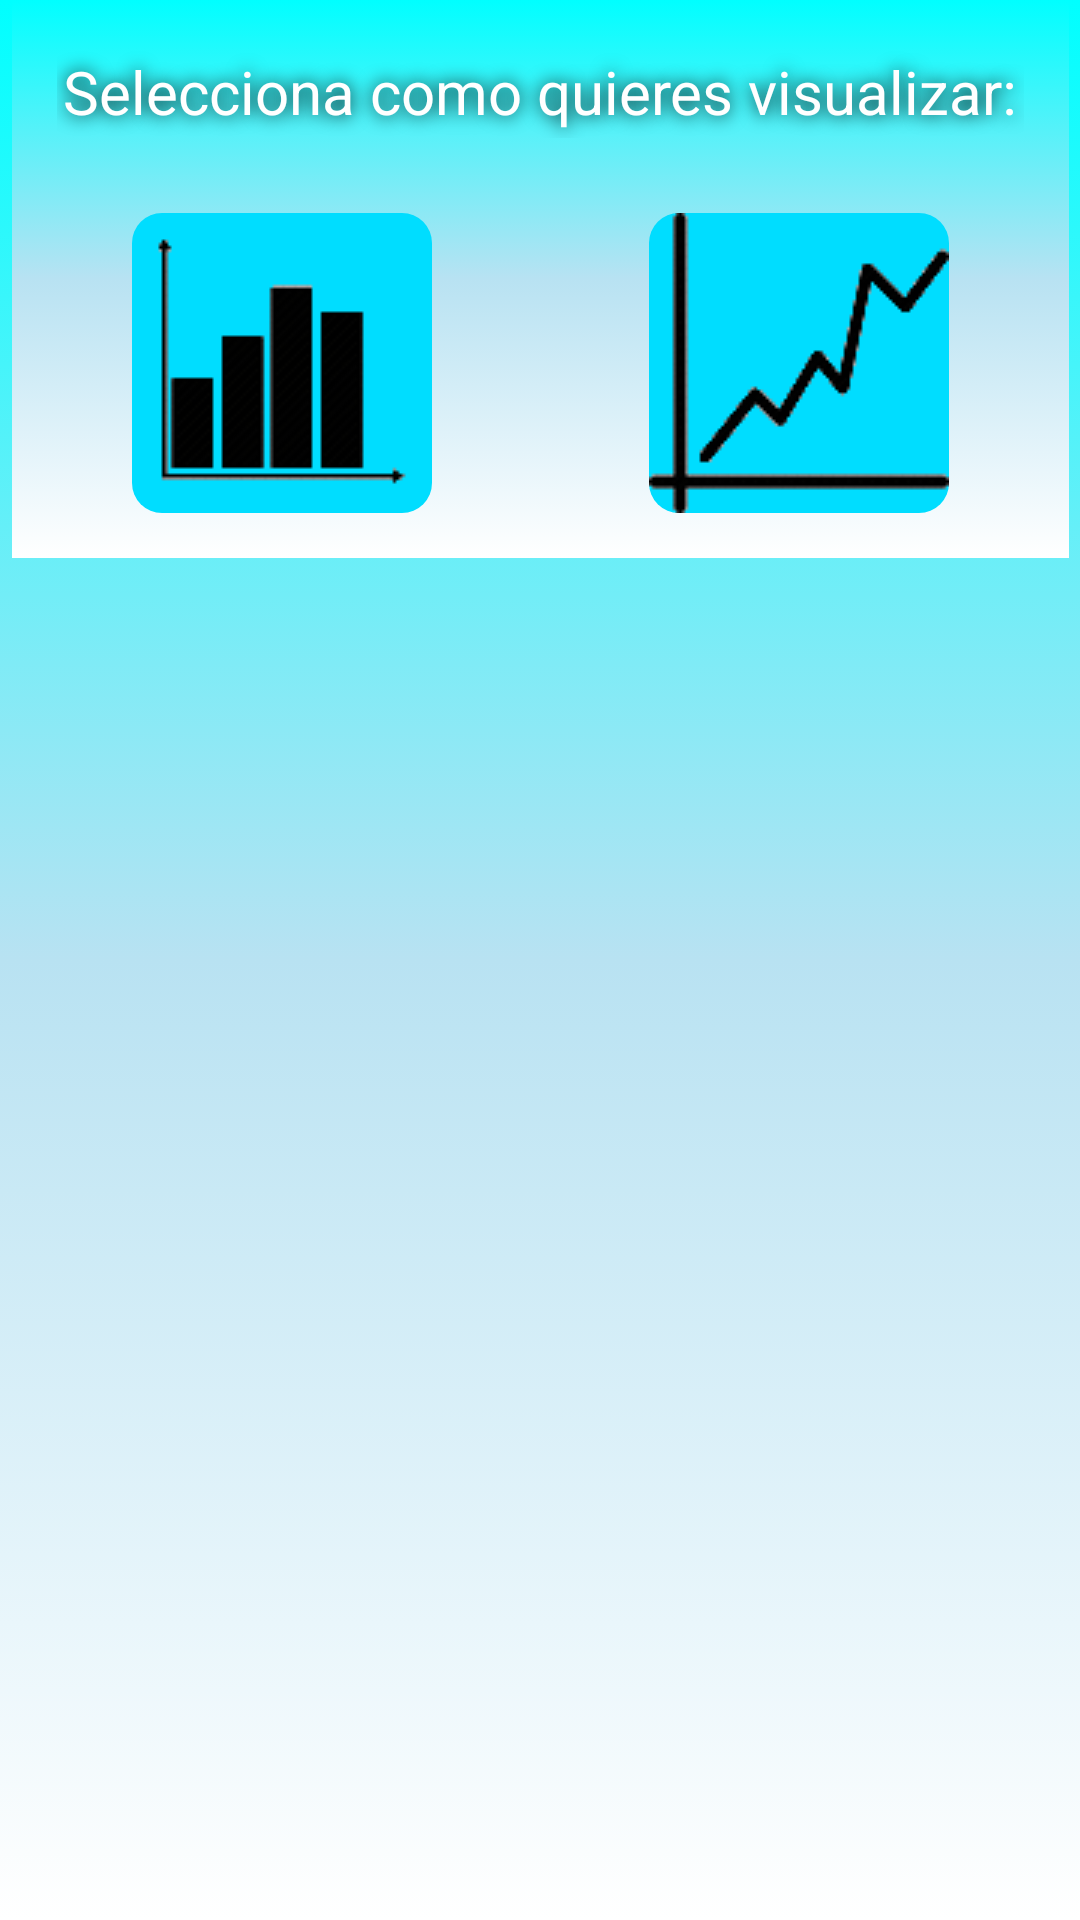

Named icons in this screenshot (1080×1920) and their centers, (x=x, y=y):
bar chart: (x=282, y=363)
line chart: (x=799, y=363)
